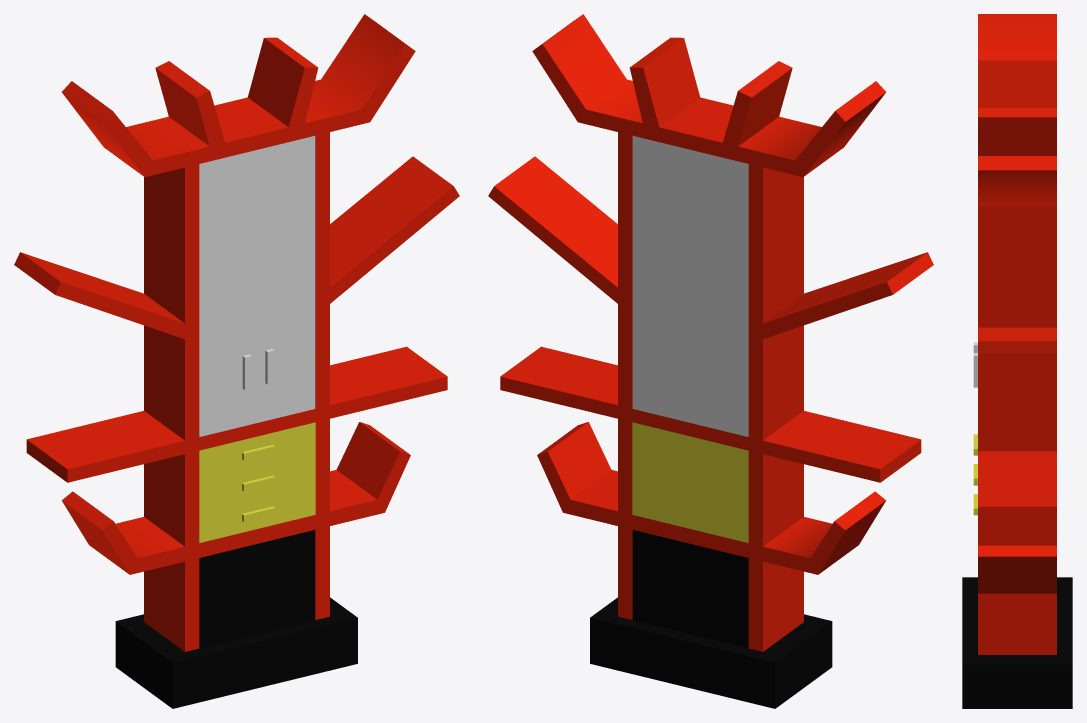
The model's file is Casablanca_Placeholder.glb.
3 views of the same model, side by side, from view 1: azimuth 30°, elevation 25°; view 2: azimuth 150°, elevation 25°; view 3: azimuth 270°, elevation 25° (orthographic). The views are drawn at different scales.
Visible parts, largest first — view 1: Extrude_1, Cube_1, Cube_14_Cube_11, Cube_13_Cube_10, Cube_11_Cube_10, Cube_10_Cube_6, Cube_12_Cube_10; view 2: Extrude_1, Cube_6, Cube_1, Cube_11_Cube_10, Cube_10_Cube_6, Cube_12_Cube_10; view 3: Extrude_1, Cube_1.
Part boxes in pixels (<box>): Extrude_1: <box>14,14,459,651</box>; Cube_1: <box>115,530,357,708</box>; Cube_14_Cube_11: <box>199,150,257,436</box>; Cube_13_Cube_10: <box>257,136,315,422</box>; Cube_11_Cube_10: <box>199,422,315,481</box>; Cube_10_Cube_6: <box>199,453,315,512</box>; Cube_12_Cube_10: <box>199,484,315,542</box>; Extrude_1: <box>488,14,933,651</box>; Cube_6: <box>632,136,748,436</box>; Cube_1: <box>590,530,832,708</box>; Cube_11_Cube_10: <box>632,422,748,481</box>; Cube_10_Cube_6: <box>632,453,748,512</box>; Cube_12_Cube_10: <box>632,484,748,542</box>; Extrude_1: <box>978,14,1056,654</box>; Cube_1: <box>962,577,1072,708</box>.
Size of the model in its own units: 4 by 5.71 by 0.9759.
